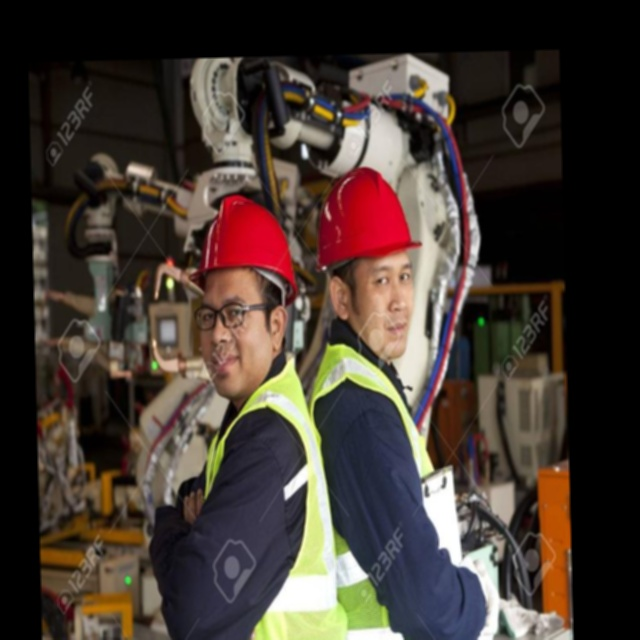Con_Casco: (320, 169, 411, 350)
Con_Chaleco: (204, 374, 341, 640)
